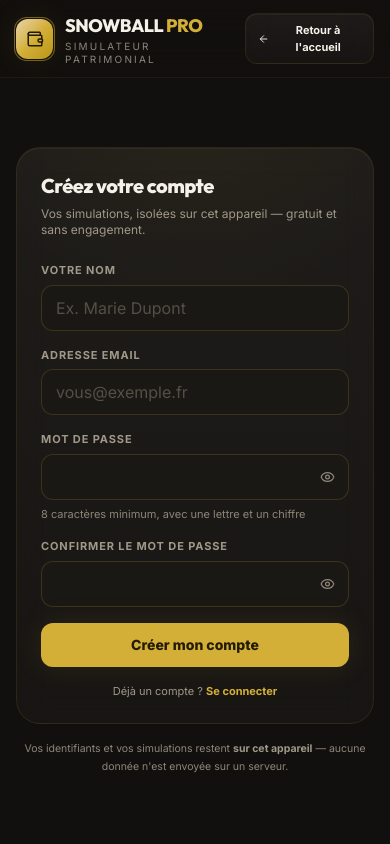
it: v6.1 — comptes : inscription, connexion, déconnexion › refuse une confirmation de mot de passe qui ne correspond pas
Type "Marie" into the field labelled "Votre nom". click: (195, 308)
box: [41,285,349,331]
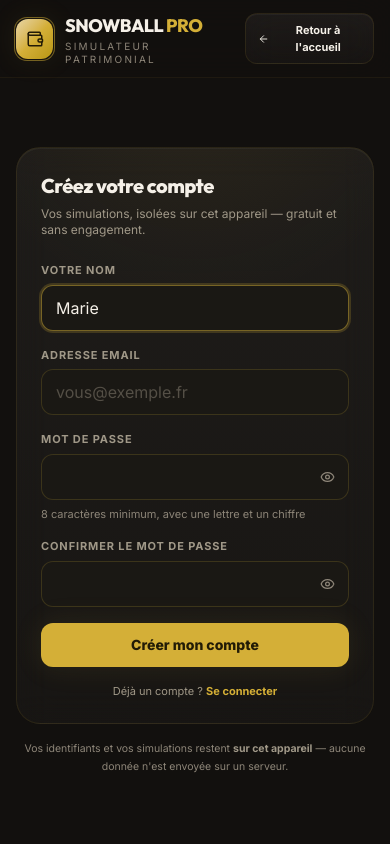
Type "marie@exemple.fr" into the field labelled "Adresse email". click: (195, 392)
box: [41,369,349,415]
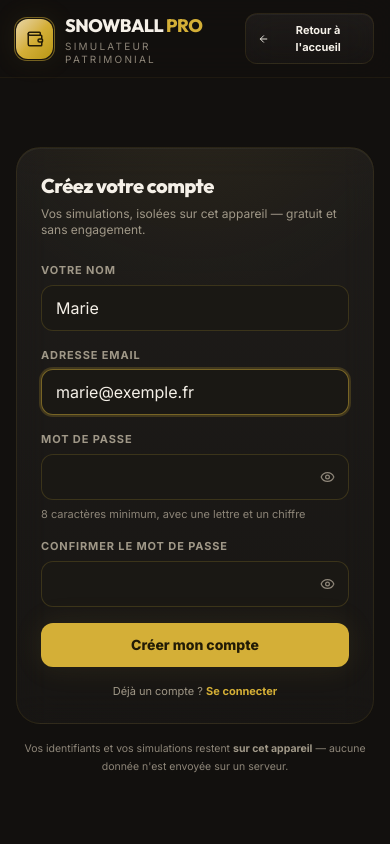
Type "secret12" into the password field labelled "Mot de passe". click: (195, 477)
box: [41,454,349,500]
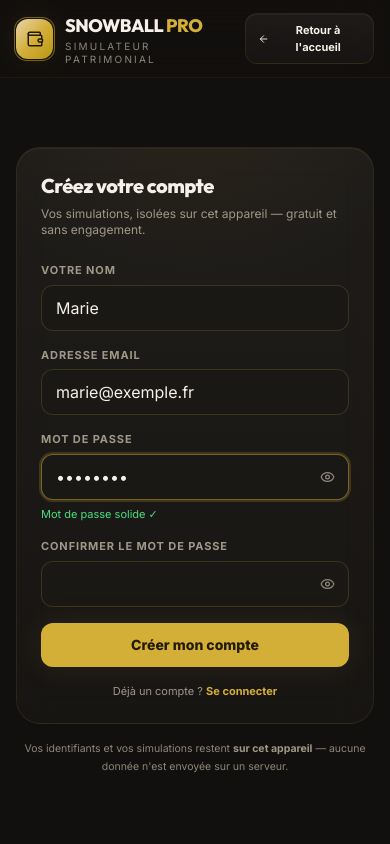
Type "autre123" into the password field labelled "Confirmer le mot de passe". click: (195, 584)
box: [41,561,349,607]
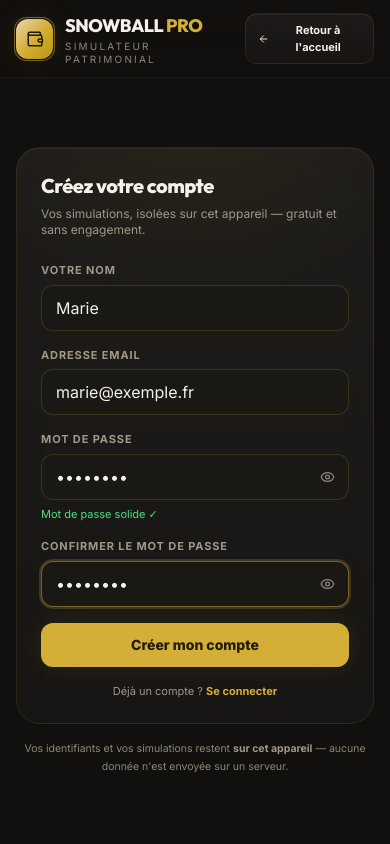
Click the button "Créer mon compte". click: (195, 645)
box: [41,623,349,667]
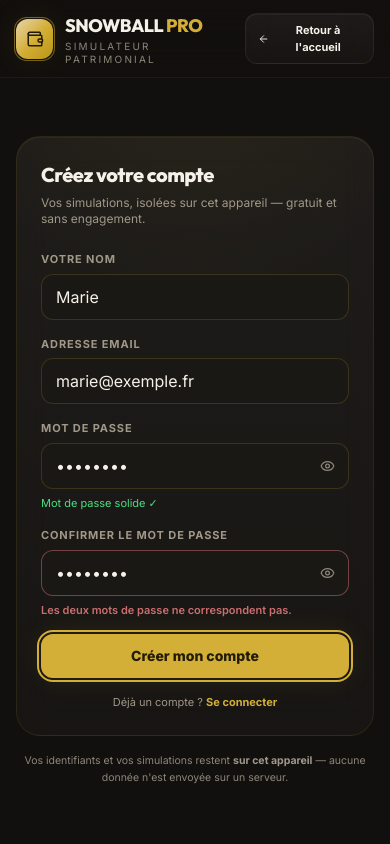
Result: the text "Les deux mots de passe ne correspondent pas." is shown at [41,603,292,617]
